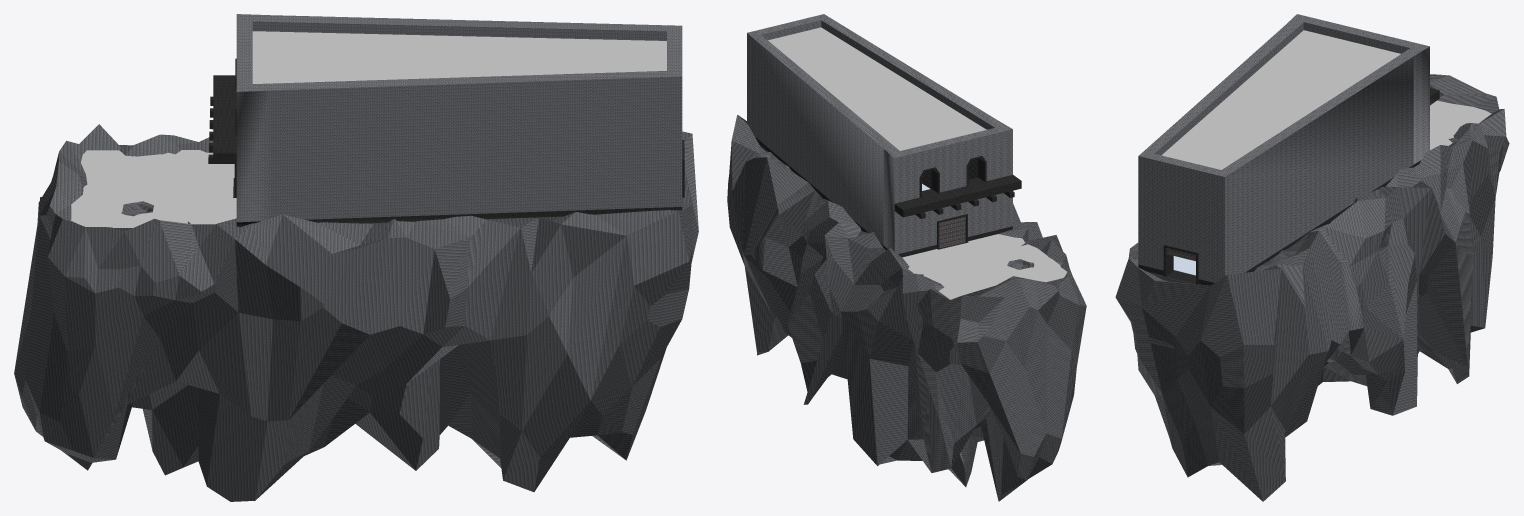
The model's file is Level2Area3.5Ground.fbx.
3 views of the same model, side by side, from view 1: azimuth 30°, elevation 25°; view 2: azimuth 150°, elevation 25°; view 3: azimuth 270°, elevation 25° (orthographic). The views are drawn at different scales.
Parts seen in each view (by area): view 1: Landscape.035, Building Body, Balcony; view 2: Landscape.035, Building Body, Balcony, FactoryDoor; view 3: Landscape.035, Building Body, factoryDoorHinge.004.
Part boxes in pixels (x1,y1,x2,y2): Landscape.035: (14,124,698,501); Building Body: (71,14,682,230); Balcony: (213,75,236,163); Landscape.035: (727,115,1086,501); Building Body: (747,14,1066,364); Balcony: (894,175,1021,217); FactoryDoor: (939,217,965,248); Landscape.035: (1115,74,1509,501); Building Body: (1138,14,1491,348); factoryDoorHinge.004: (1163,245,1198,284).
Bounding box in the file's own units: 18383 × 13667 × 13591.
